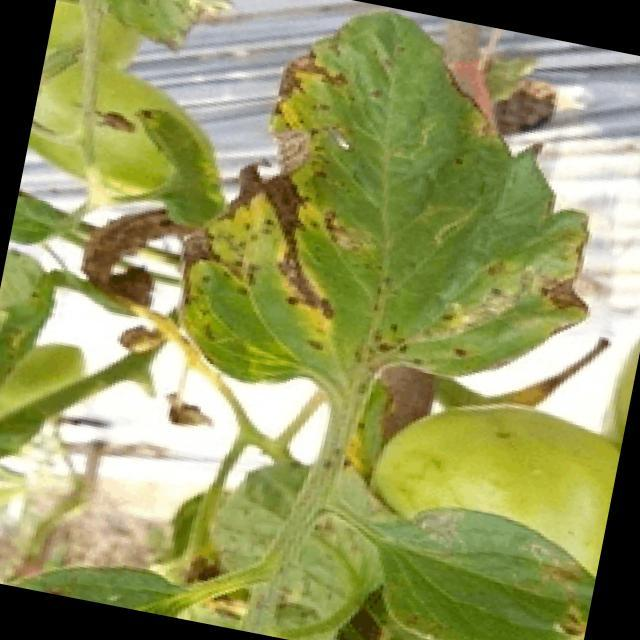Tomato bacterial spot leaf: (156, 0, 640, 453), (357, 483, 606, 640)
